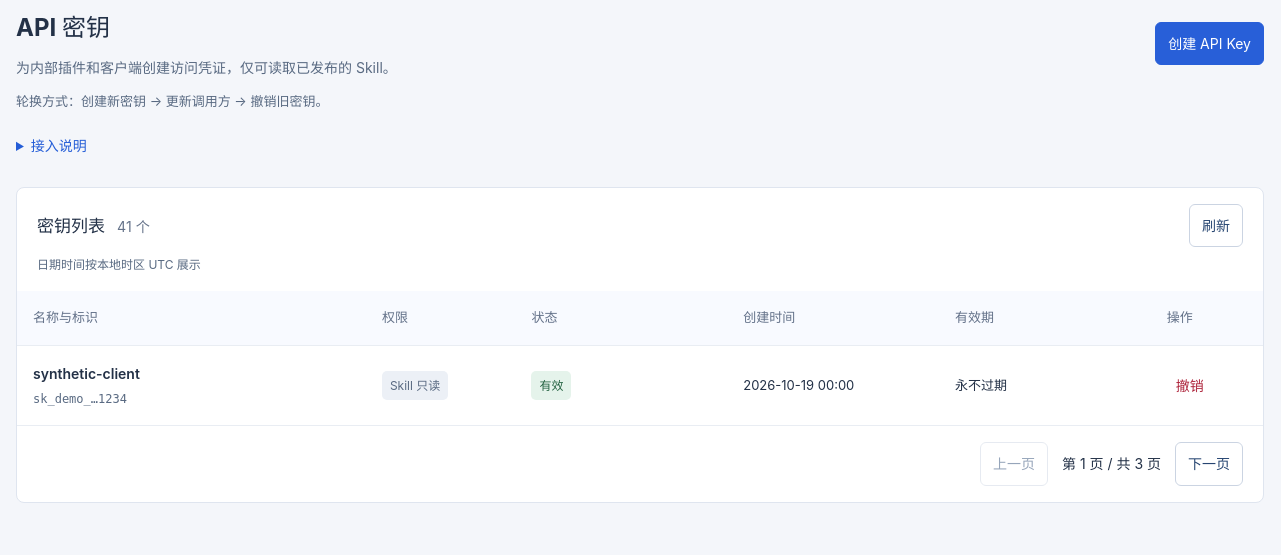
Test: API Key 安全交互 › 分页晚返回的旧请求不能覆盖新页
The width and height of the screenshot is (1281, 555).
Click the button "下一页". click: (1209, 464)
box: [1175,442,1243,486]
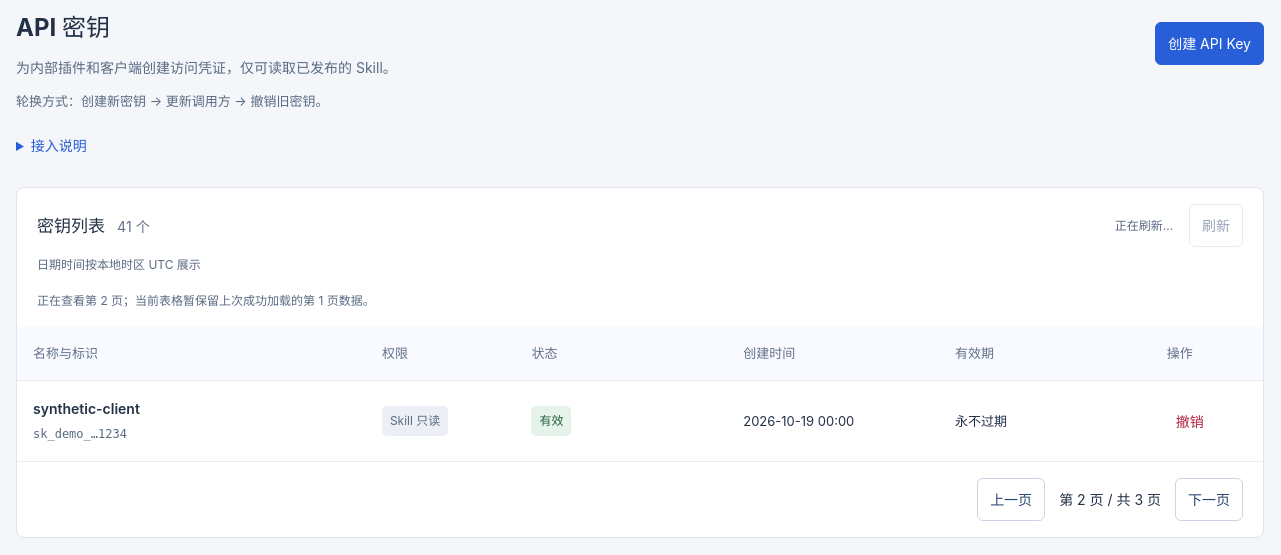
Click the button "下一页". click: (1209, 500)
box: [1175,478,1243,521]
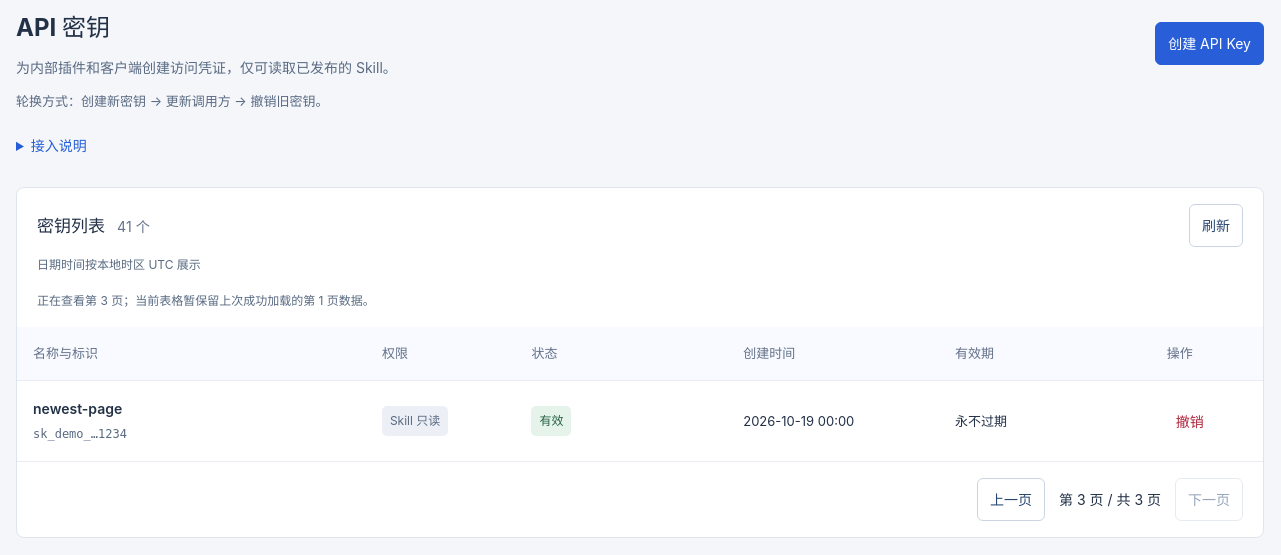
Now the text "newest-page" is shown, box [33,400,122,417]
Now the text "第 3 页" is shown, box [37,293,375,308]
